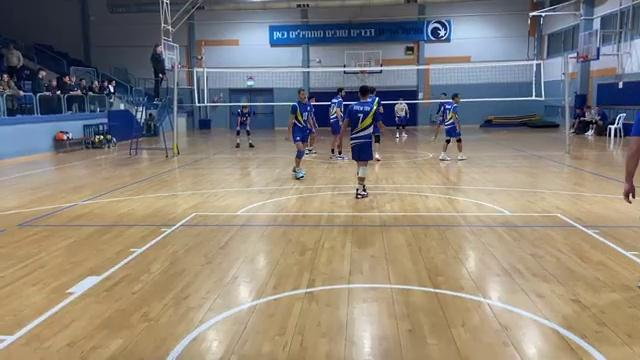ball: (443, 110, 458, 124)
